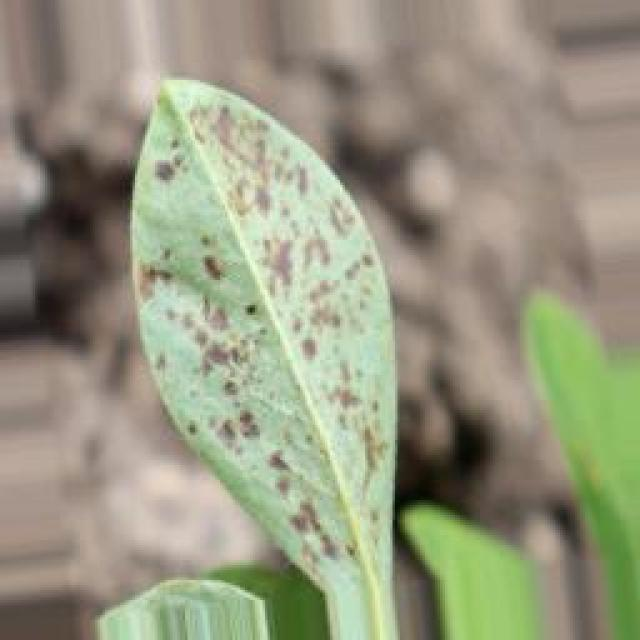Whitefly: (88, 58, 408, 587)
